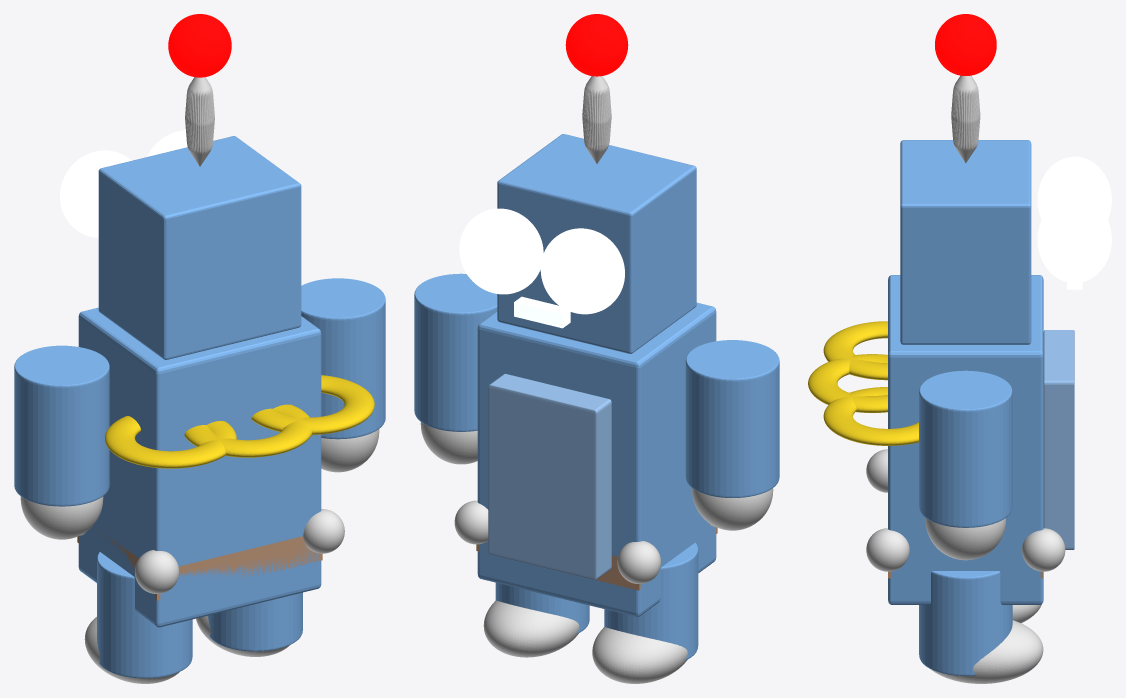
File: bolt.glb
The picture shows the model from 3 angles, left to right: view 1: azimuth 30°, elevation 25°; view 2: azimuth 150°, elevation 25°; view 3: azimuth 270°, elevation 25°; orthographic projection. The views are drawn at different scales.
Visible parts, largest first — view 1: bolt_body, bolt_head, bolt_arm_l, bolt_arm_r, bolt_leg_l, bolt_leg_r, bolt_gear0, bolt_rust, bolt_antenna_tip, bolt_eye_l, bolt_gear1, bolt_gear2 (+8 smaller); view 2: bolt_body, bolt_head, bolt_belly, bolt_arm_l, bolt_arm_r, bolt_eye_l, bolt_eye_r, bolt_leg_l, bolt_foot_r, bolt_foot_l, bolt_antenna_tip, bolt_hand_l (+7 smaller); view 3: bolt_head, bolt_body, bolt_arm_r, bolt_leg_r, bolt_belly, bolt_eye_r, bolt_antenna_tip, bolt_eye_l, bolt_foot_r, bolt_gear1, bolt_gear2, bolt_hand_r (+5 smaller).
Boxes of the visible parts, box(x1,y1,x2,y2) form: bolt_body: box(78, 307, 321, 627); bolt_head: box(98, 136, 301, 359); bolt_arm_l: box(14, 345, 109, 506); bolt_arm_r: box(301, 278, 385, 439); bolt_leg_l: box(97, 552, 192, 678); bolt_leg_r: box(207, 592, 302, 651); bolt_gear0: box(105, 416, 236, 468); bolt_rust: box(77, 527, 322, 600); bolt_antenna_tip: box(168, 14, 231, 77); bolt_eye_l: box(60, 150, 131, 237); bolt_gear1: box(251, 375, 374, 434); bolt_gear2: box(184, 404, 312, 457); bolt_body: box(477, 302, 716, 616); bolt_head: box(497, 134, 696, 353); bolt_belly: box(488, 373, 611, 580); bolt_arm_l: box(685, 340, 779, 497); bolt_arm_r: box(414, 273, 497, 431); bolt_eye_l: box(540, 228, 624, 314); bolt_eye_r: box(459, 208, 543, 294); bolt_leg_l: box(604, 542, 698, 660); bolt_foot_r: box(483, 600, 579, 657); bolt_foot_l: box(592, 627, 687, 683); bolt_antenna_tip: box(565, 14, 628, 76); bolt_hand_l: box(692, 488, 773, 530); bolt_head: box(900, 140, 1031, 344); bolt_body: box(888, 275, 1043, 604); bolt_arm_r: box(919, 370, 1012, 527); bolt_leg_r: box(919, 571, 1012, 675); bolt_belly: box(1043, 330, 1074, 549); bolt_eye_r: box(1037, 196, 1111, 283); bolt_antenna_tip: box(935, 14, 996, 75); bolt_eye_l: box(1037, 156, 1111, 219); bolt_foot_r: box(930, 620, 1043, 683); bolt_gear1: box(823, 387, 918, 445); bolt_gear2: box(808, 354, 887, 412); bolt_hand_r: box(925, 518, 1005, 560).
Bounding box in the file's own units: 1.3 × 2.25 × 0.9763.
